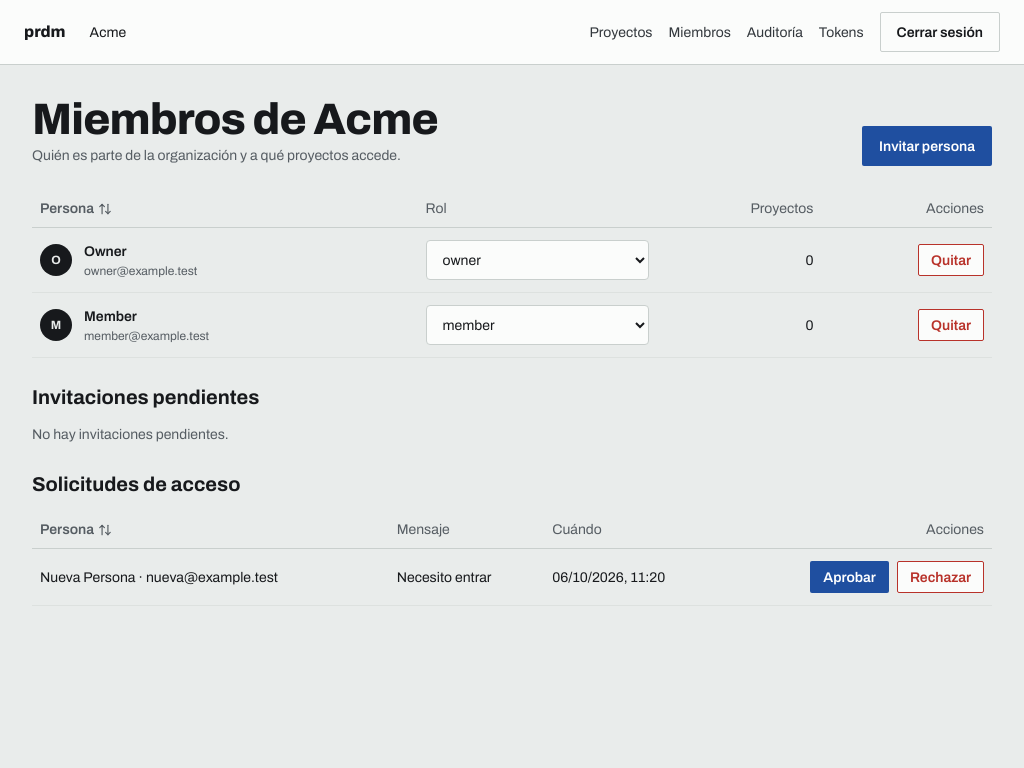
Test: OrgMembersSettings › solicitudes de acceso › approves through the endpoint and reloads
The image size is (1024, 768).
Click the button with aria-label "Aprobar la solicitud de nueva@example.test". click: (850, 577)
box: [810,561,889,593]
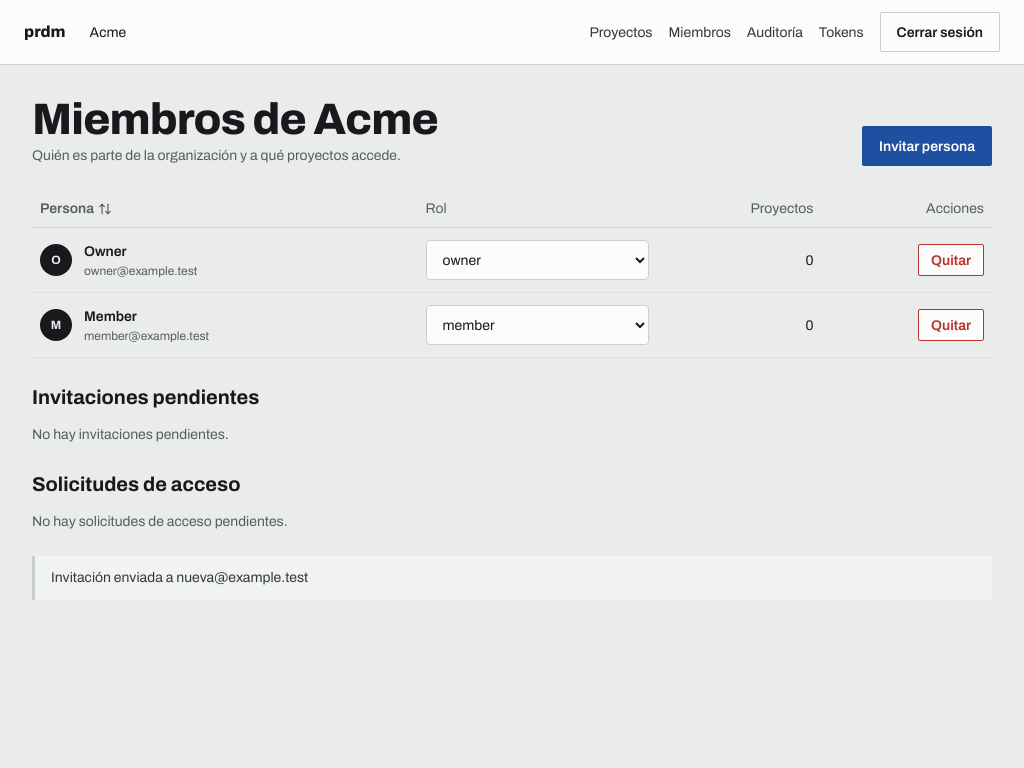
Expected: the text "Invitación enviada a nueva@example.test" is shown, [32,556,992,600]
